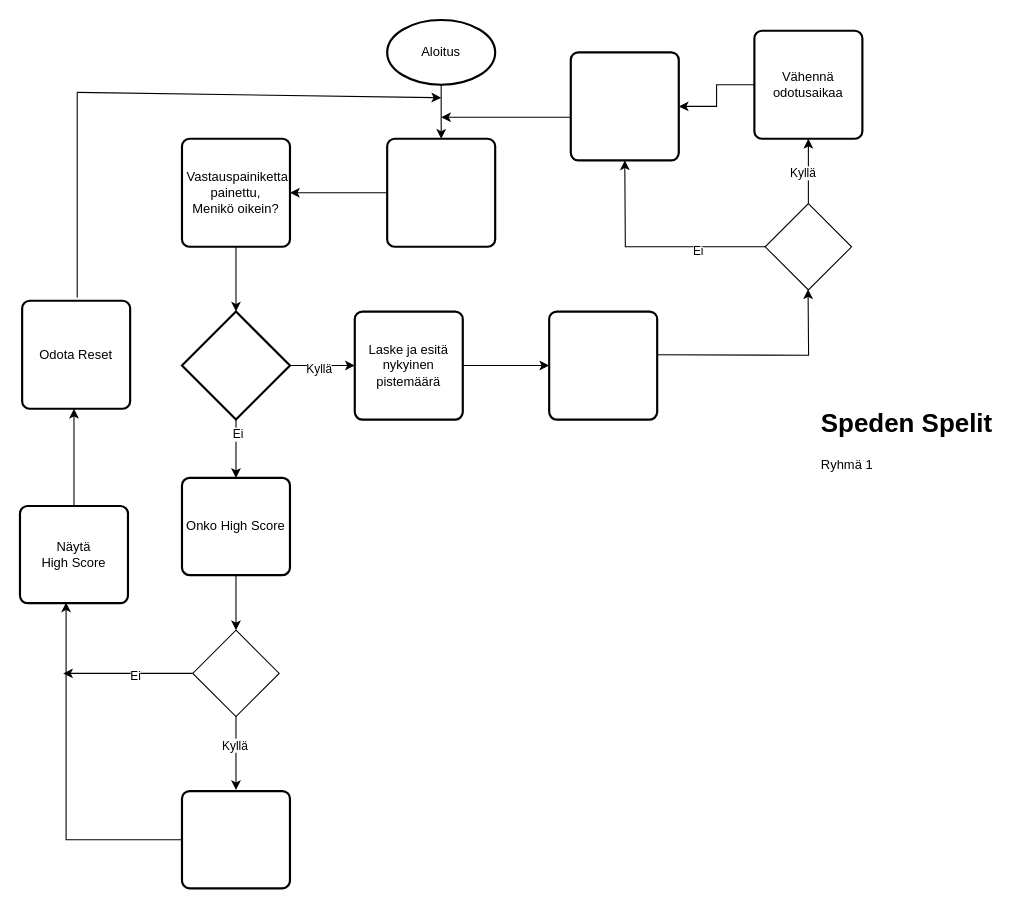
The diagram is 1031 pixels wide and 907 high, and some of its shapes have lost their labels. Each missing label, with the centre of its shape:
"Arvo ja sytytä LED" goes at (x=441, y=192).
"Odota" goes at (x=624, y=106).
"Onko raja-arvo?" goes at (x=603, y=365).
"Päivitä High Score" goes at (x=235, y=839).
